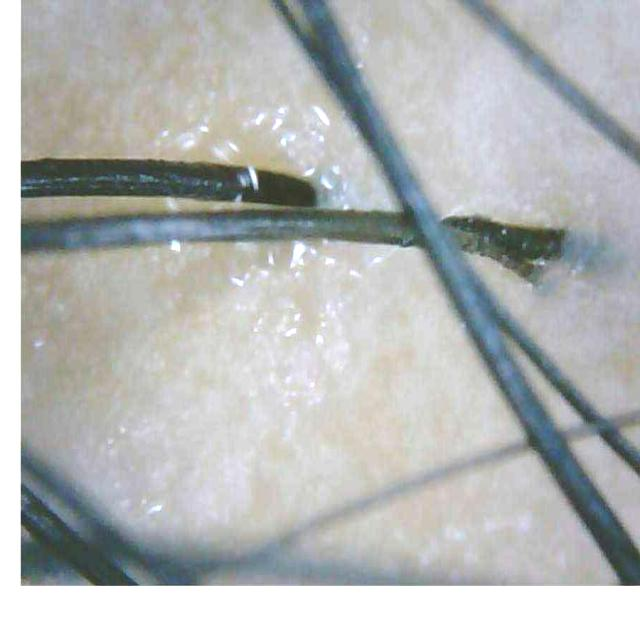o: (219, 241, 386, 416), (151, 93, 351, 209)
